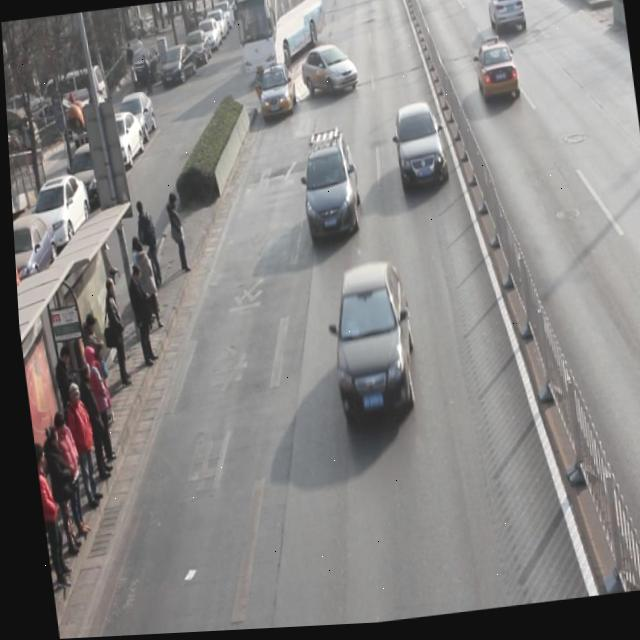car: (320, 266, 417, 427), (295, 138, 363, 248), (388, 104, 448, 199), (298, 44, 359, 105), (472, 43, 521, 110), (254, 66, 298, 124), (485, 0, 527, 43)
van: (233, 0, 328, 86)
